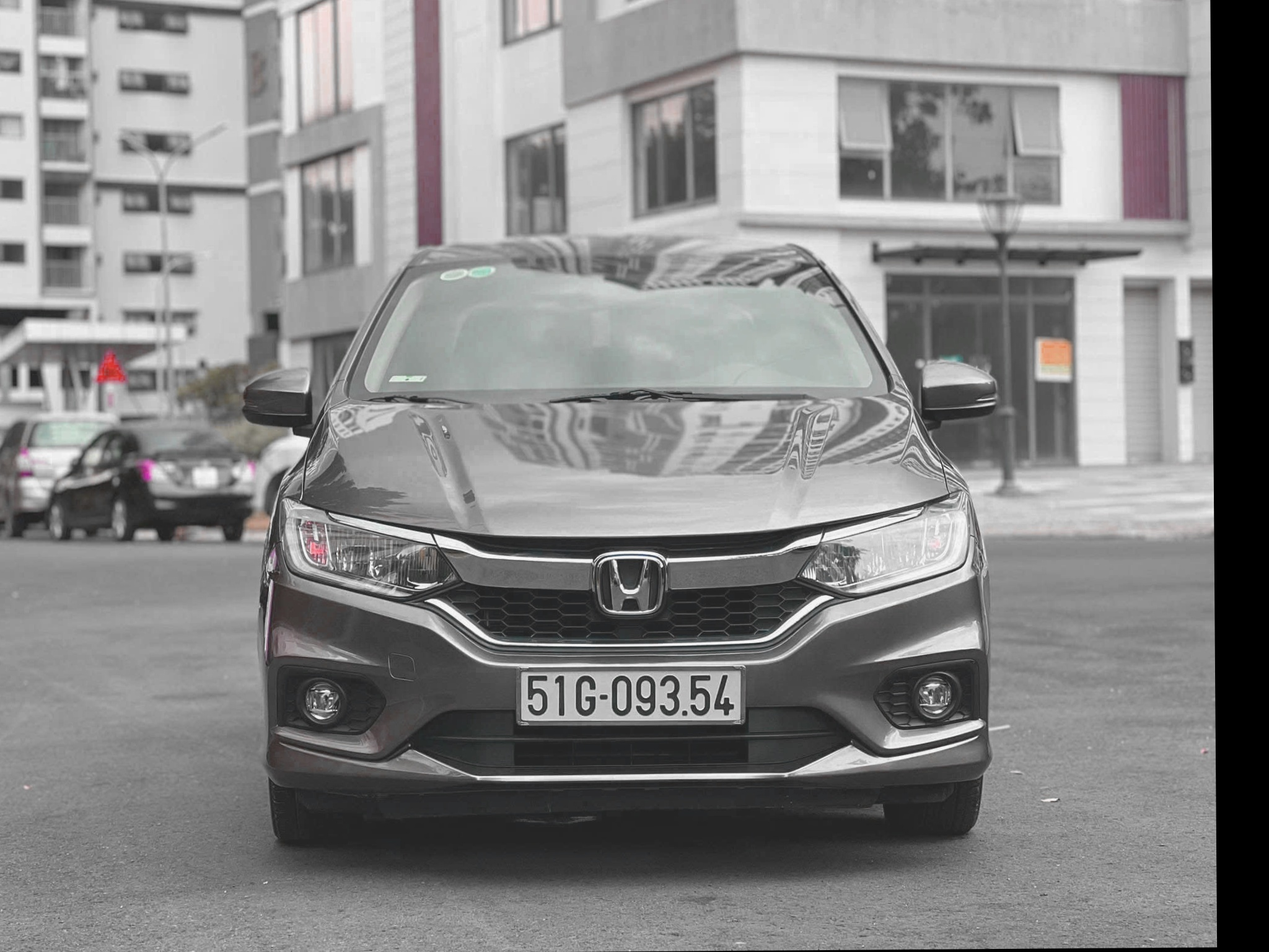Bien-so: (520, 662, 740, 727)
